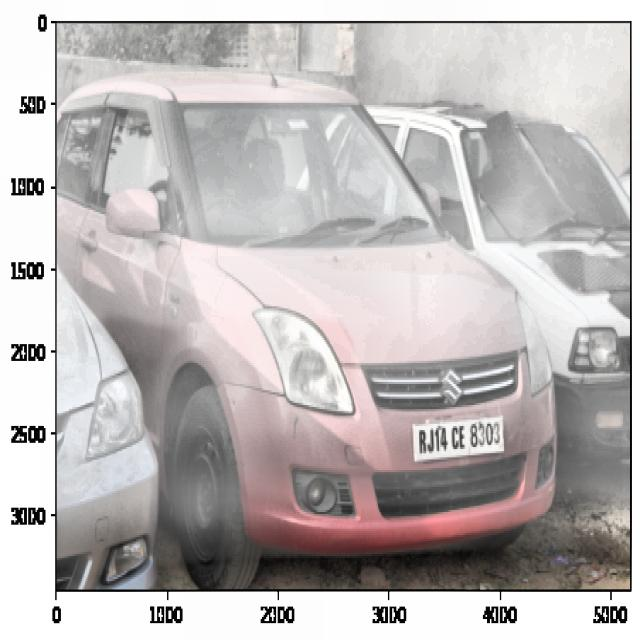license_plate: (413, 416, 504, 458)
